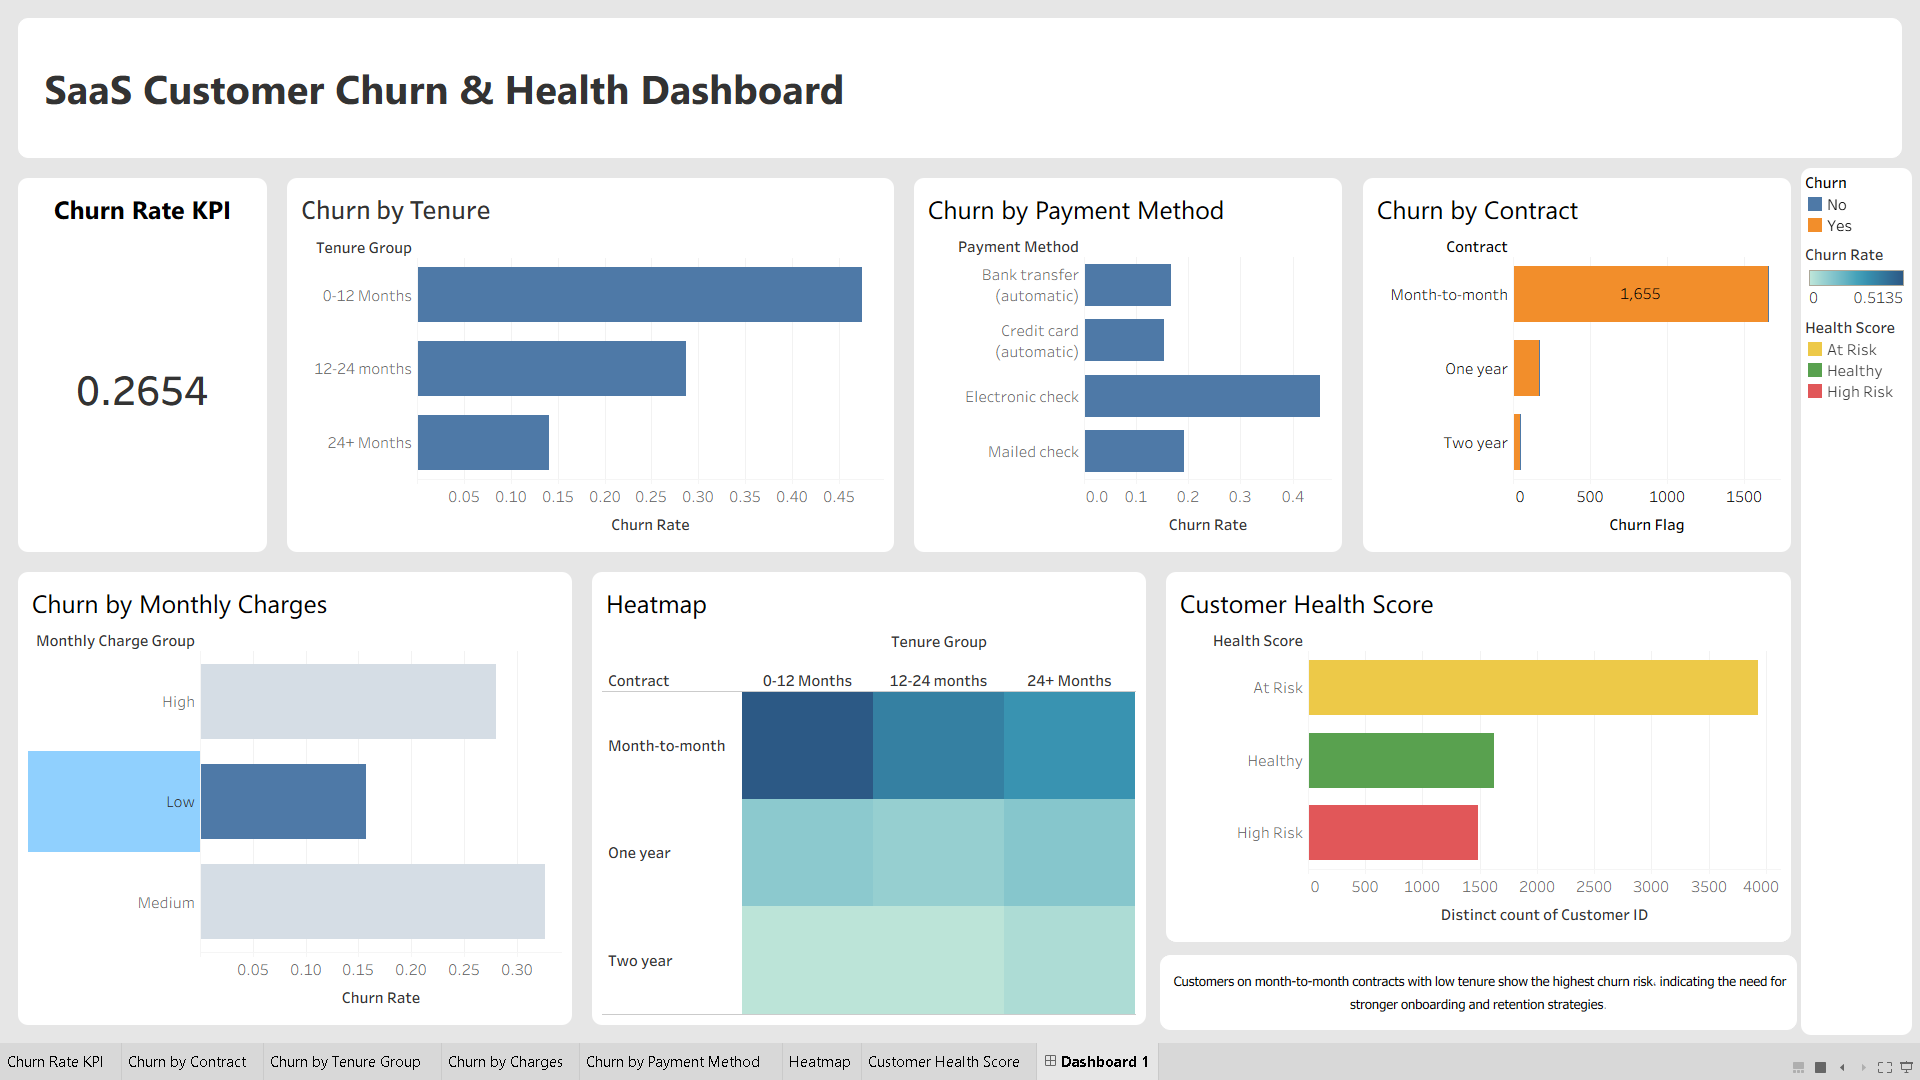

The page's visual inventory and layout, read from the dashboard file:
{"tool":"tableau","page":{"name":"Dashboard 1","canvas":[1000,1000],"units":"permille","ordinal":0},"visuals":[{"type":"title","box":[4.8,9.4,990.3,188]},{"type":"worksheet","title":"Churn Rate KPI","mark":"Automatic","box":[4.8,197.4,138.8,360.2]},{"type":"worksheet","title":"Churn by Tenure Group","mark":"Automatic","rows":["Calculation_0702916749766658"],"cols":["Calculation_0702916749479937"],"box":[143.6,197.4,322.9,360.2]},{"type":"worksheet","title":"Churn by Payment Method","mark":"Automatic","rows":["PaymentMethod"],"cols":["Calculation_0702916749479937"],"box":[466.5,197.4,230.8,360.2]},{"type":"worksheet","title":"Churn by Contract","mark":"Automatic","rows":["Contract"],"cols":["Calculation_0702916749205504"],"box":[697.3,197.4,230.8,360.2]},{"type":"legend","title":"Churn by Contract","param":"[federated.0lnu9o20i82g3a1dy6qyi1s36j73].[none:Churn:nk]","box":[928.2,197.4,67,84.6]},{"type":"legend","title":"Heatmap","param":"[federated.0lnu9o20i82g3a1dy6qyi1s36j73].[usr:Calculation_0702916749479937:qk]","box":[928.2,282,67,85.8]},{"type":"legend","title":"Customer Health Score","param":"[federated.0lnu9o20i82g3a1dy6qyi1s36j73].[none:Calculation_0702916755869700:nk]","box":[928.2,367.8,67,109.3]},{"type":"worksheet","title":"Churn by Charges","mark":"Automatic","rows":["Calculation_0702916750323715"],"cols":["Calculation_0702916749479937"],"box":[4.8,557.6,295.5,433]},{"type":"worksheet","title":"Heatmap","mark":"Automatic","rows":["Contract"],"cols":["Calculation_0702916749766658"],"box":[300.4,557.6,295.5,433]},{"type":"worksheet","title":"Customer Health Score","mark":"Automatic","rows":["Calculation_0702916755869700"],"cols":["customerID"],"box":[595.9,557.6,332.3,356.6]},{"type":"text","box":[595.9,914.2,332.3,76.4]}]}

Visuals, with their boxes on the dashboard's canvas, which has no fixed pixel size, in thousandths of its width and height (x1, y1, x2, y2). These are canvas units, not pixel positions in the 1920x1080 screenshot, which may show the page scaled, cropped or inside an application window:
title: [x1=5, y1=9, x2=995, y2=197]
"Churn Rate KPI" worksheet: [x1=5, y1=197, x2=144, y2=558]
"Churn by Tenure Group" worksheet: [x1=144, y1=197, x2=466, y2=558]
"Churn by Payment Method" worksheet: [x1=466, y1=197, x2=697, y2=558]
"Churn by Contract" worksheet: [x1=697, y1=197, x2=928, y2=558]
"Churn by Contract" legend: [x1=928, y1=197, x2=995, y2=282]
"Heatmap" legend: [x1=928, y1=282, x2=995, y2=368]
"Customer Health Score" legend: [x1=928, y1=368, x2=995, y2=477]
"Churn by Charges" worksheet: [x1=5, y1=558, x2=300, y2=991]
"Heatmap" worksheet: [x1=300, y1=558, x2=596, y2=991]
"Customer Health Score" worksheet: [x1=596, y1=558, x2=928, y2=914]
text: [x1=596, y1=914, x2=928, y2=991]
